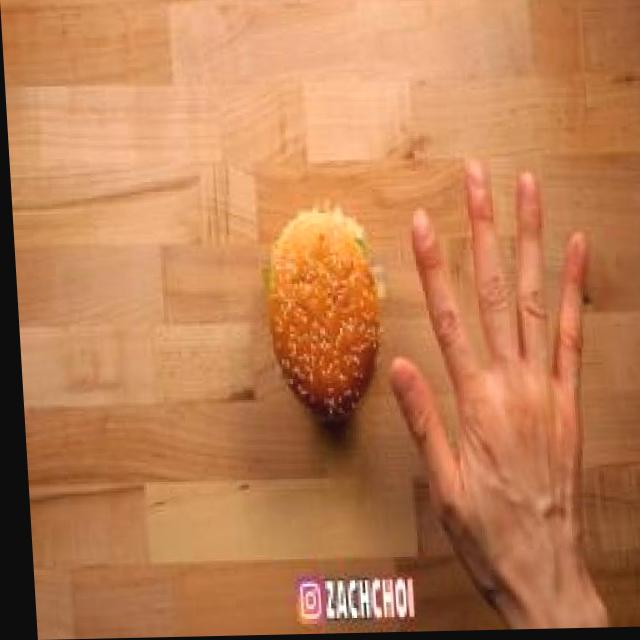burger: (252, 191, 394, 439)
